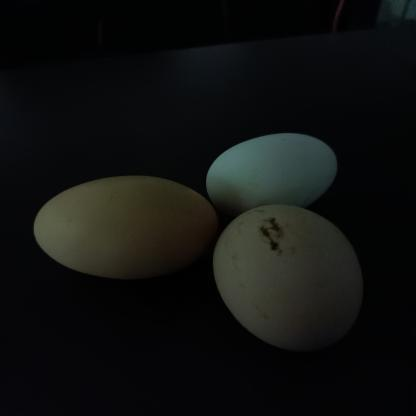egg: (212, 203, 381, 358), (32, 162, 223, 290), (206, 126, 357, 214)
